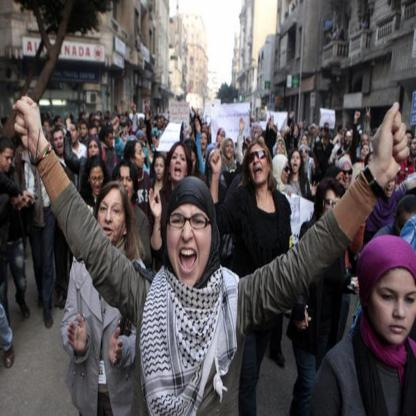face: (167, 204, 212, 289), (368, 268, 416, 345), (98, 188, 125, 242), (249, 146, 268, 185), (397, 210, 416, 244), (324, 190, 342, 225), (171, 147, 188, 182), (119, 166, 135, 201), (91, 167, 105, 196), (1, 148, 14, 172), (135, 143, 147, 168), (342, 163, 353, 188), (54, 131, 64, 154), (186, 152, 196, 175), (155, 160, 165, 181), (281, 163, 291, 184), (292, 152, 302, 173), (385, 177, 395, 198), (336, 172, 346, 193), (89, 142, 100, 161), (226, 140, 234, 159), (362, 145, 371, 160), (70, 125, 77, 143), (362, 134, 370, 147), (301, 148, 308, 162), (90, 129, 98, 141), (15, 146, 23, 158), (81, 125, 88, 138), (345, 132, 352, 145), (201, 135, 207, 150), (411, 139, 416, 156), (108, 133, 114, 147), (406, 134, 413, 146), (219, 131, 225, 144), (244, 147, 250, 158), (122, 121, 128, 131), (302, 137, 308, 147), (279, 142, 285, 152), (45, 122, 50, 133), (277, 145, 282, 155), (66, 120, 72, 128), (295, 127, 299, 138), (153, 133, 157, 143), (188, 126, 193, 134), (317, 144, 322, 152), (140, 137, 144, 145), (203, 125, 207, 133), (196, 119, 200, 126), (312, 129, 316, 136), (159, 119, 162, 128), (162, 118, 165, 127), (282, 129, 285, 138), (143, 128, 147, 134), (96, 121, 100, 126), (322, 131, 325, 137), (141, 120, 144, 125)
